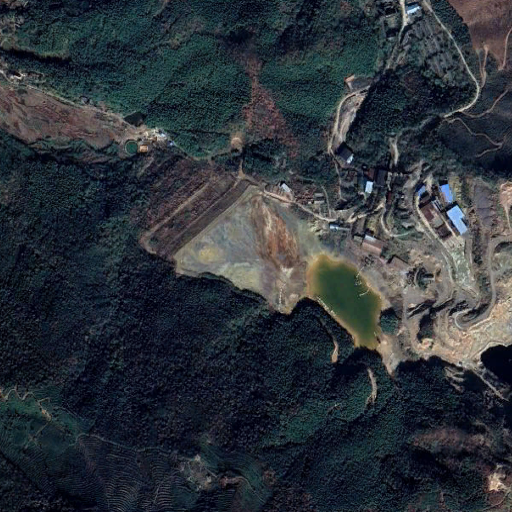tp: (137, 161, 382, 345)
